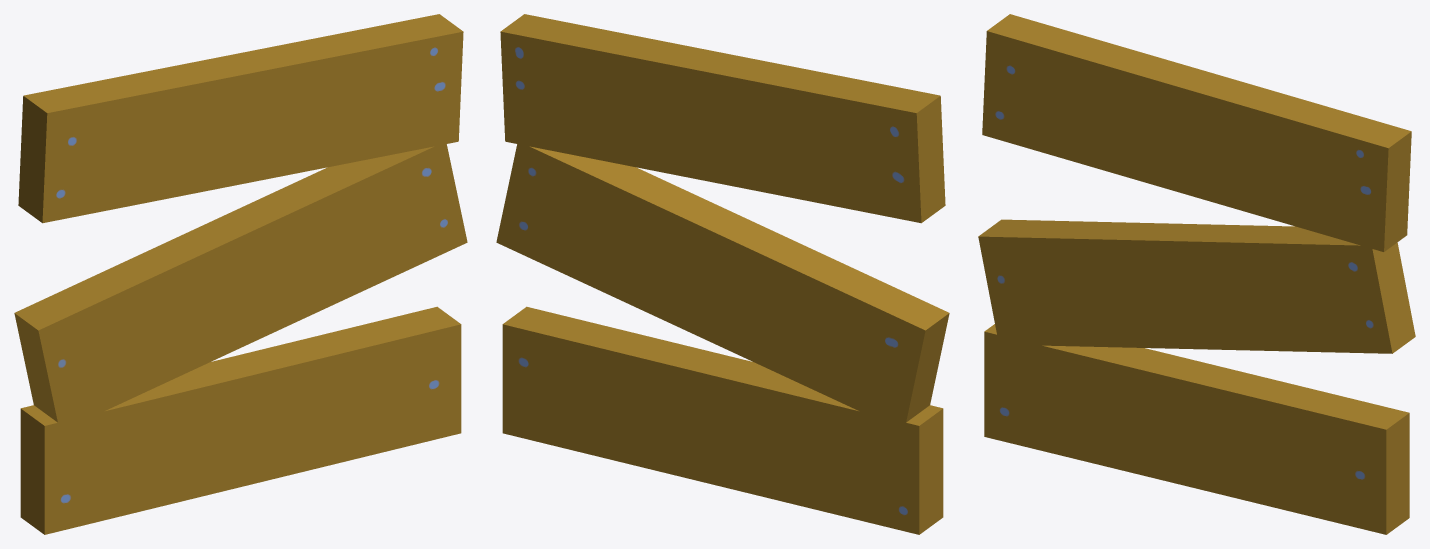
The model's file is planks.fbx.
3 renders of one model, left to right at view 1: azimuth 30°, elevation 25°; view 2: azimuth 150°, elevation 25°; view 3: azimuth 330°, elevation 25°, orthographic. The views are drawn at different scales.
Parts seen in each view (by area): view 1: polySurface1; view 2: polySurface1; view 3: polySurface1.
Boxes of the visible parts, x1,y1,x2,y2 form: polySurface1: [14, 14, 467, 534]; polySurface1: [496, 14, 949, 534]; polySurface1: [978, 14, 1415, 534].
Size of the model in its own units: 4.12 by 3.86 by 0.4.
1 material, 1 textured.
